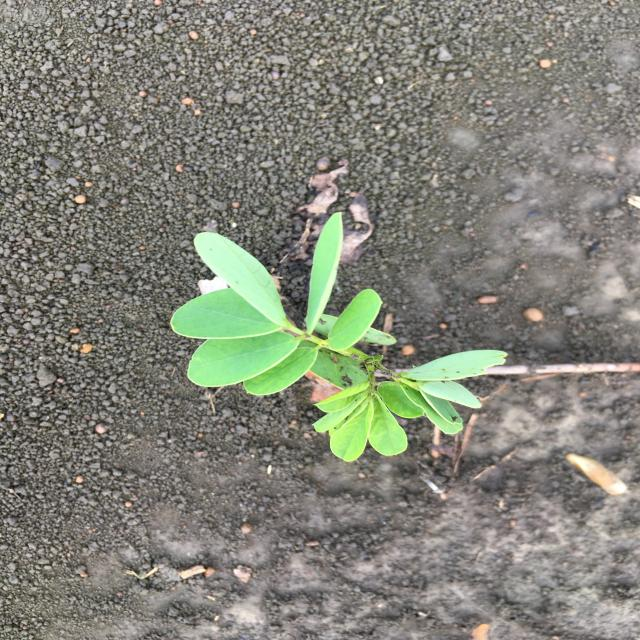Sicklepod: (166, 208, 512, 464)
